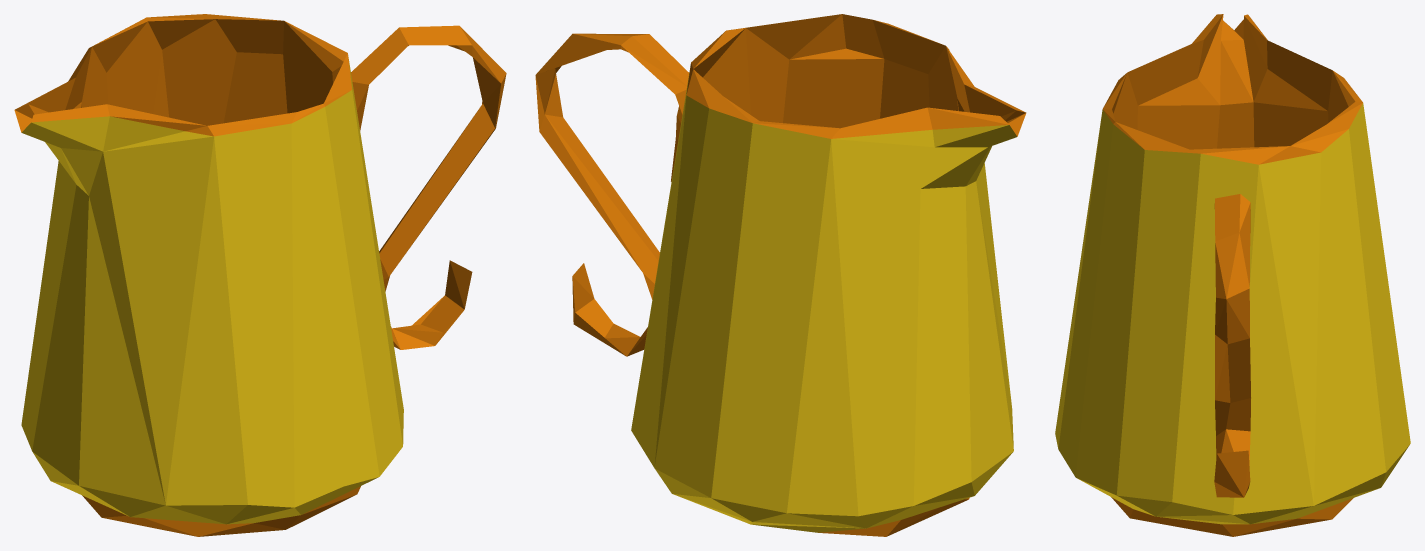
Rendered from MilkCan.fbx.
3 renders of one model, left to right at view 1: azimuth 30°, elevation 25°; view 2: azimuth 150°, elevation 25°; view 3: azimuth 270°, elevation 25°, orthographic. The views are drawn at different scales.
Parts seen in each view (by area): view 1: MilkCanLowPoly; view 2: MilkCanLowPoly; view 3: MilkCanLowPoly.
Boxes of the visible parts, x1=… form: MilkCanLowPoly: x1=14, y1=14, x2=506, y2=536; MilkCanLowPoly: x1=535, y1=14, x2=1026, y2=536; MilkCanLowPoly: x1=1055, y1=14, x2=1410, y2=536.
Size of the model in its own units: 15.88 by 13.05 by 10.95.
